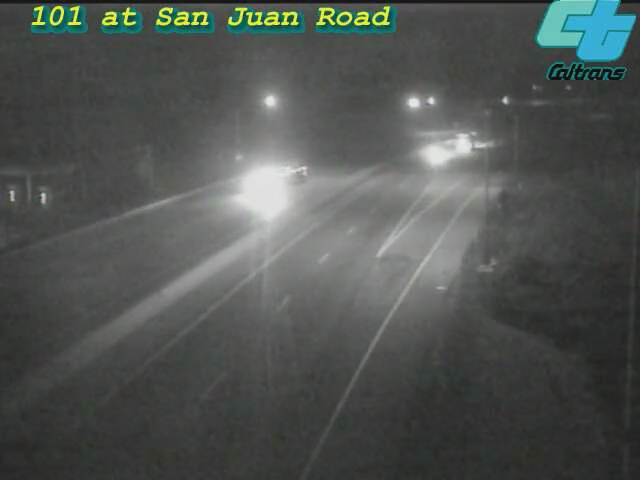vehicle: (224, 142, 304, 222), (439, 116, 489, 166), (416, 129, 466, 179)
